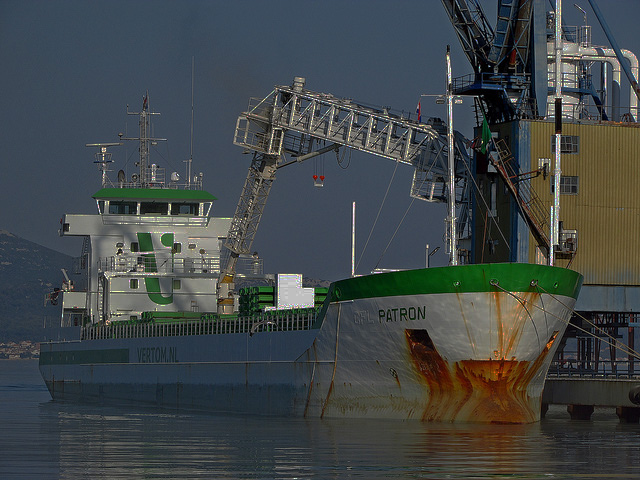bulk carrier: (39, 98, 573, 427)
